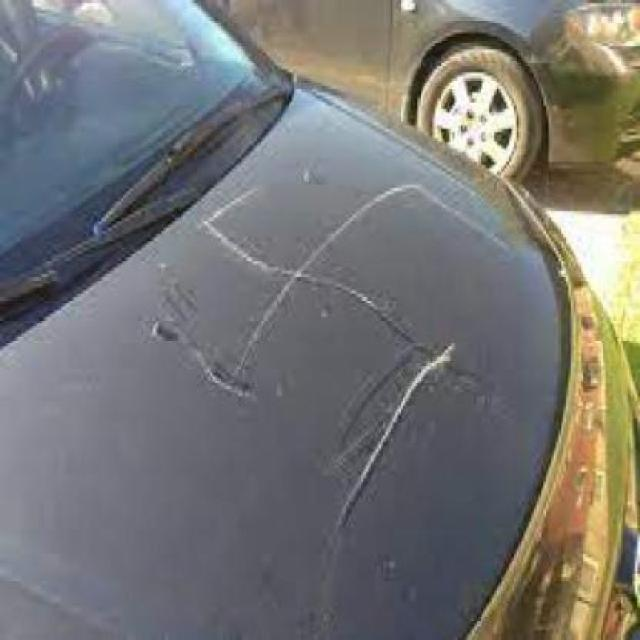bonnet-dent: (102, 136, 572, 605)
